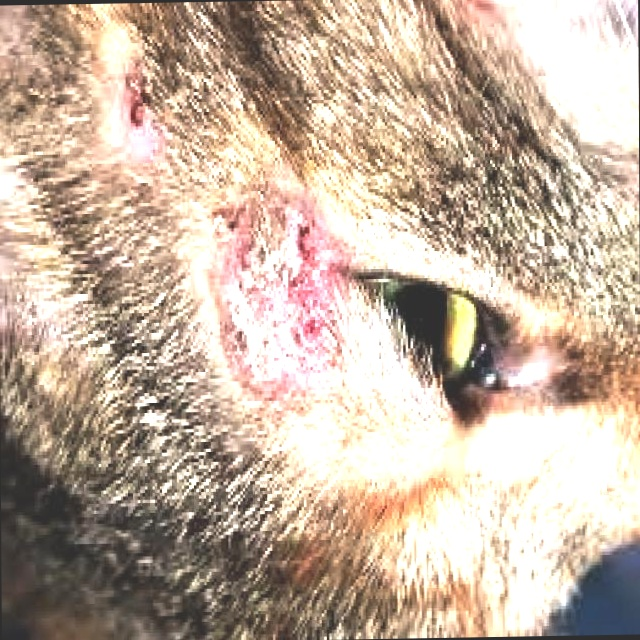ringworm: (207, 193, 365, 439), (114, 66, 158, 152)
